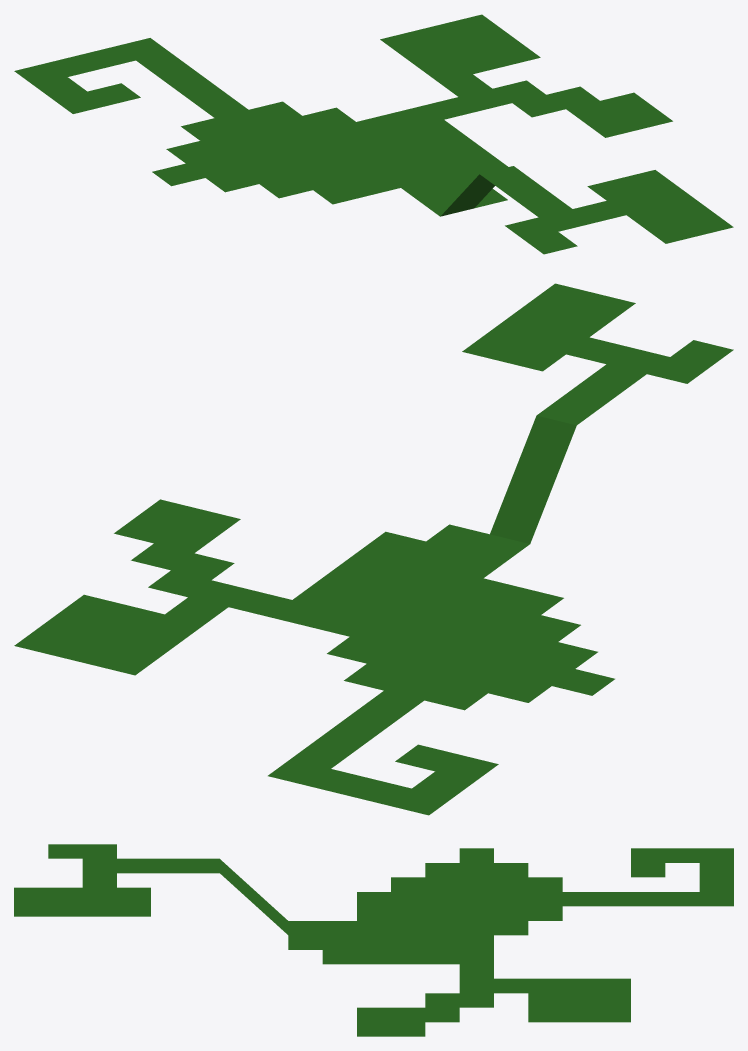
Rendered from world_0_nav.glb.
The picture shows the model from 3 angles, top to bottom: view 1: azimuth 30°, elevation 25°; view 2: azimuth 150°, elevation 25°; view 3: azimuth 270°, elevation 25°; orthographic projection. The views are drawn at different scales.
Parts seen in each view (by area): view 1: ground; view 2: ground; view 3: ground.
Boxes of the visible parts, x1,y1,x2,y2 form: ground: (14,14,733,254); ground: (14,283,733,815); ground: (14,844,733,1036).
Bounding box in the file's own units: 26 × 4 × 42.
